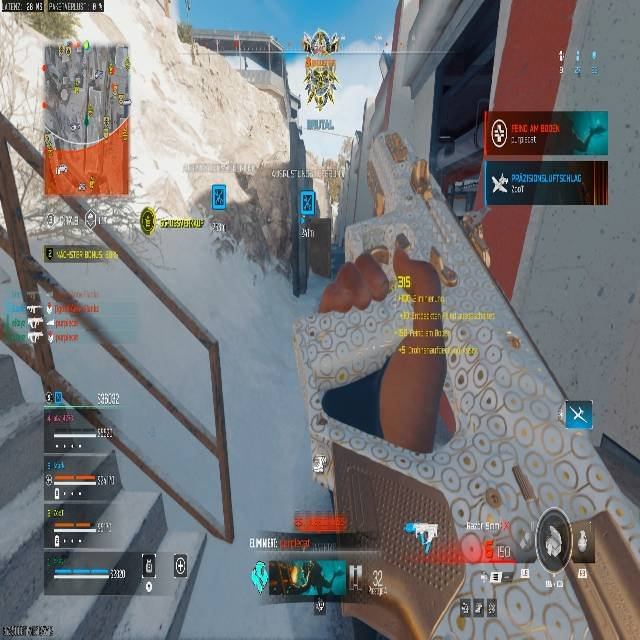player: (297, 222, 465, 455)
